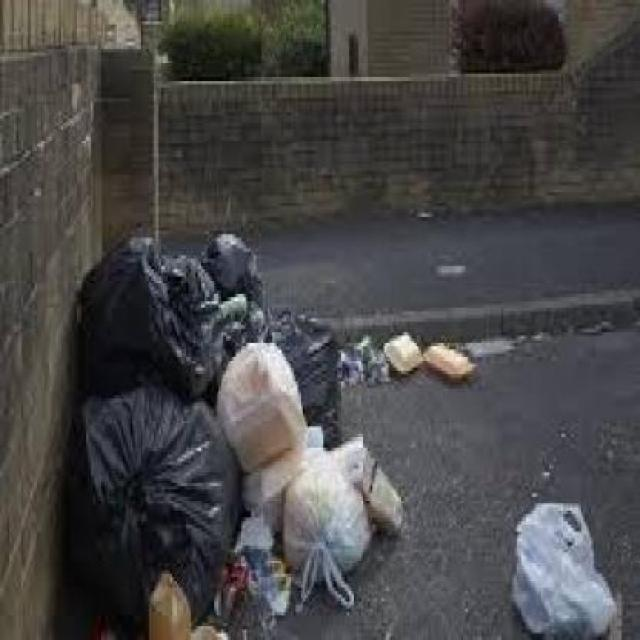garbage: (76, 231, 385, 616), (503, 500, 619, 629), (380, 311, 480, 384)
